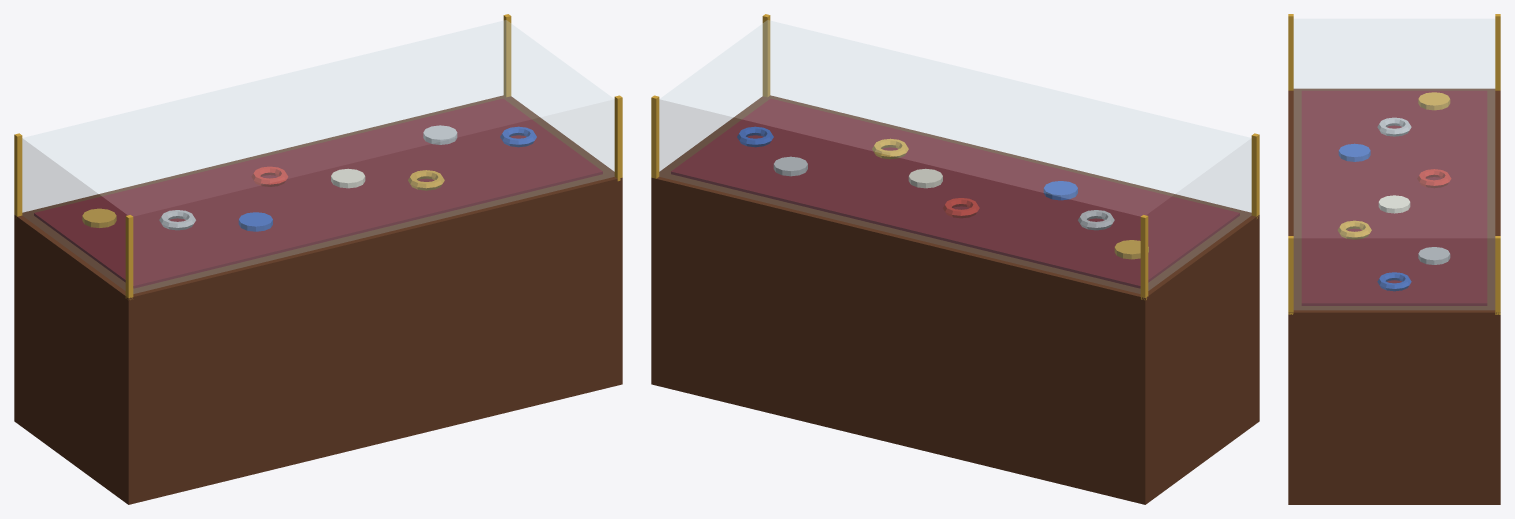
Rendered from pawn_case.glb.
The picture shows the model from 3 angles, left to right: view 1: azimuth 30°, elevation 25°; view 2: azimuth 150°, elevation 25°; view 3: azimuth 270°, elevation 25°; orthographic projection. The views are drawn at different scales.
Parts seen in each view (by area): view 1: base_pawn_wood, glass_pawn_glass, felt_pawn_felt, thing, edge_pawn_brass (×4); view 2: base_pawn_wood, glass_pawn_glass, felt_pawn_felt, thing, edge_pawn_brass (×4); view 3: glass_pawn_glass, base_pawn_wood, felt_pawn_felt, thing, edge_pawn_brass (×4).
Boxes of the visible parts, x1,y1,x2,y2 form: base_pawn_wood: (14,95,622,504); glass_pawn_glass: (22,20,614,293); felt_pawn_felt: (34,98,602,288); thing: (82,125,536,231); edge_pawn_brass (×4): (14,14,622,299); base_pawn_wood: (651,95,1259,504); glass_pawn_glass: (659,20,1251,293); felt_pawn_felt: (671,98,1239,288); thing: (737,126,1148,259); edge_pawn_brass (×4): (651,14,1259,300); glass_pawn_glass: (1294,19,1494,309); base_pawn_wood: (1288,88,1500,504); felt_pawn_felt: (1301,90,1487,305); thing: (1337,92,1451,291); edge_pawn_brass (×4): (1288,14,1500,314).
Size of the model in its own units: 2 by 1.11 by 0.8.
